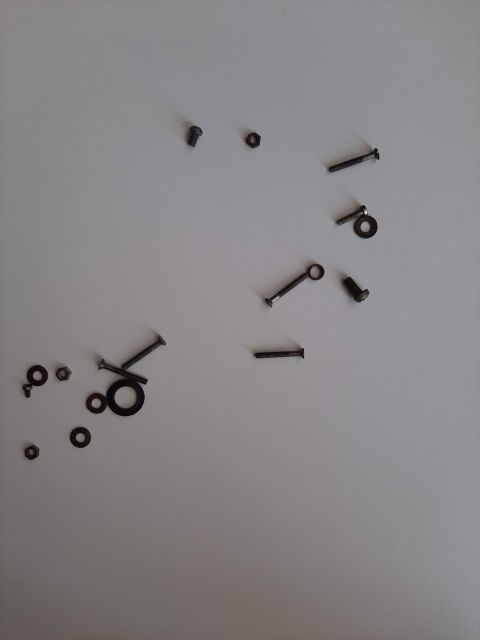nakretka: (5, 425, 45, 475), (235, 125, 275, 155), (35, 355, 75, 385)
podkladka: (95, 355, 155, 415), (65, 385, 125, 425), (325, 205, 385, 245), (45, 415, 95, 445), (5, 355, 45, 385)
sruba: (215, 325, 325, 385), (245, 245, 325, 305), (305, 125, 395, 175), (95, 325, 175, 365), (75, 355, 155, 385), (325, 265, 385, 305), (325, 185, 365, 235), (175, 105, 205, 155)
